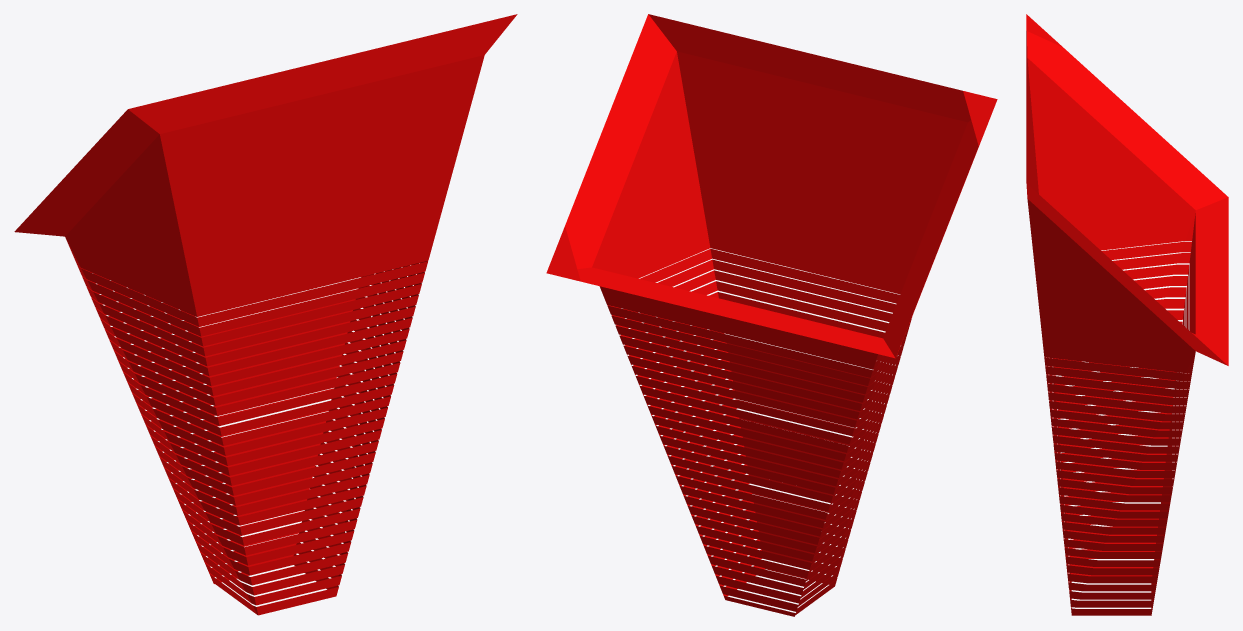
Rendered from SM_Station_SignFINAL.fbx.
The picture shows the model from 3 angles, left to right: view 1: azimuth 30°, elevation 25°; view 2: azimuth 150°, elevation 25°; view 3: azimuth 270°, elevation 25°; orthographic projection. The views are drawn at different scales.
Visible parts, largest first — view 1: Cube.001, pasted__Cube; view 2: pasted__Cube, Cube.001; view 3: pasted__Cube, Cube.001.
Boxes of the visible parts, x1,y1,x2,y2 form: Cube.001: (14,14,517,614); pasted__Cube: (66,134,427,615); pasted__Cube: (546,14,997,615); Cube.001: (577,267,911,616); pasted__Cube: (1026,14,1228,615); Cube.001: (1026,183,1228,615).
Size of the model in its own units: 90.72 by 126 by 45.82.
Materials: 1 (1 with a texture image).
